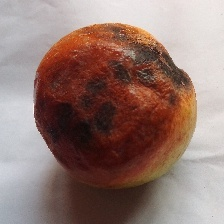guava: (15, 54, 168, 193)
